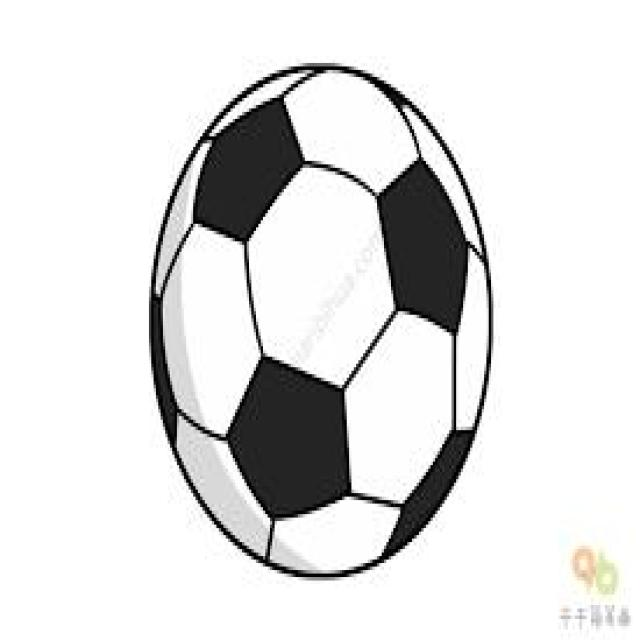Soccer Ball: (152, 63, 494, 587)
